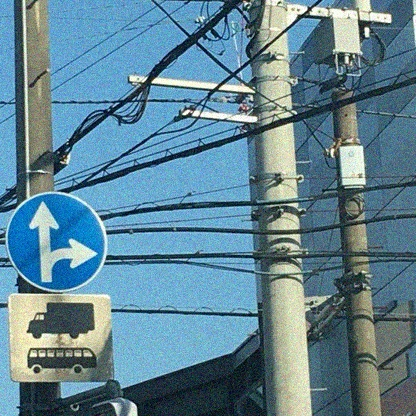Direction_sign: (1, 188, 107, 312)
